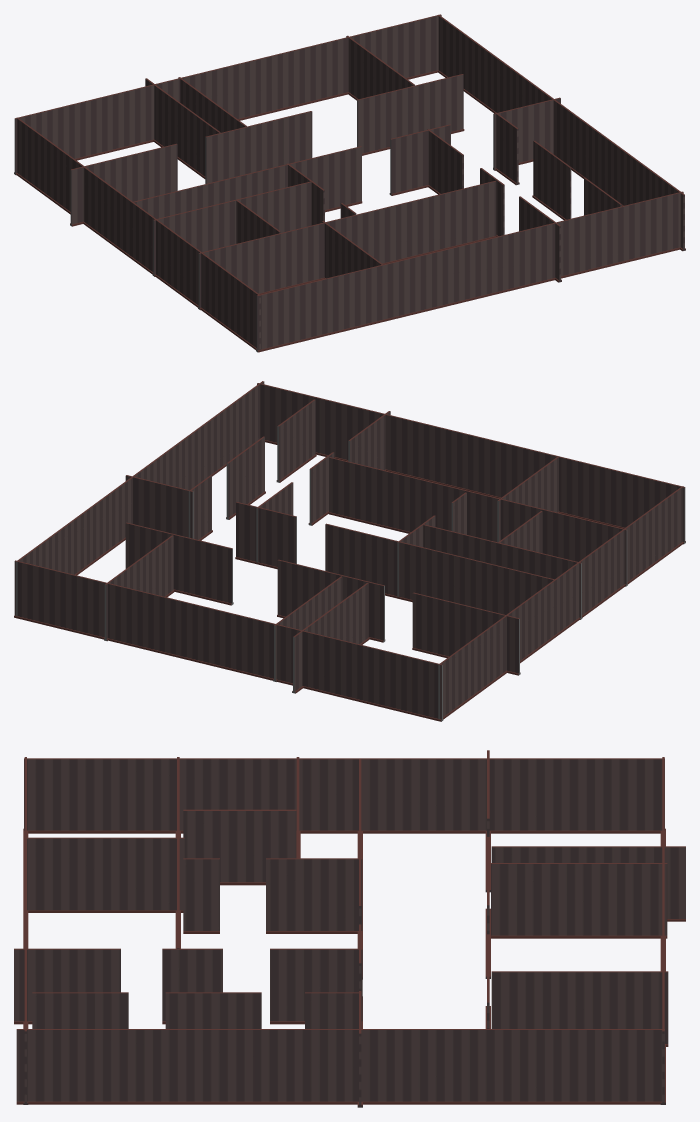
The model's file is wall2.glb.
3 renders of one model, top to bottom at view 1: azimuth 30°, elevation 25°; view 2: azimuth 150°, elevation 25°; view 3: azimuth 270°, elevation 25°, orthographic. The views are drawn at different scales.
Parts seen in each view (by area): view 1: Cube.001, Cube.002, Cube.014, Cube.004, Cube.003, Cube.006, Cube.019, Cube.007, Cube.016, Cube.018, Cube.012, Cube.021 (+12 smaller); view 2: Cube.002, Cube.001, Cube.004, Cube.014, Cube.003, Cube.006, Cube.019, Cube.018, Cube.016, Cube.007, Cube.021, Cube.020 (+13 smaller); view 3: Cube.003, Cube.004, Cube.011, Cube.017, Cube.010, Cube.013, Cube.015, Cube.022, Cube.023, Cube.012, Cube.025, Cube.026 (+8 smaller).
Part boxes in pixels (x1,y1,x2,y2): Cube.001: [256, 191, 683, 352]; Cube.002: [14, 14, 441, 175]; Cube.014: [198, 181, 496, 310]; Cube.004: [17, 118, 260, 349]; Cube.003: [438, 14, 685, 251]; Cube.006: [133, 146, 362, 218]; Cube.019: [357, 74, 464, 155]; Cube.007: [205, 111, 312, 183]; Cube.016: [152, 181, 311, 276]; Cube.018: [70, 143, 177, 226]; Cube.012: [145, 78, 220, 178]; Cube.021: [389, 124, 450, 195]; Cube.002: [14, 560, 443, 721]; Cube.001: [257, 383, 685, 544]; Cube.004: [438, 486, 683, 719]; Cube.014: [328, 457, 627, 586]; Cube.003: [16, 381, 264, 616]; Cube.006: [325, 523, 555, 614]; Cube.019: [125, 522, 233, 605]; Cube.018: [412, 592, 520, 675]; Cube.016: [423, 524, 582, 619]; Cube.007: [277, 559, 385, 642]; Cube.021: [235, 502, 296, 569]; Cube.020: [125, 475, 193, 538]; Cube.003: [16, 1029, 664, 1104]; Cube.004: [24, 758, 664, 833]; Cube.011: [491, 863, 667, 938]; Cube.017: [26, 837, 184, 912]; Cube.010: [491, 971, 668, 1046]; Cube.013: [266, 858, 362, 933]; Cube.015: [183, 809, 296, 885]; Cube.022: [270, 948, 362, 1024]; Cube.023: [14, 948, 120, 1024]; Cube.012: [491, 846, 685, 921]; Cube.025: [165, 992, 261, 1028]; Cube.026: [32, 992, 128, 1028].
Bounding box in the file's own units: 5.06 × 0.6142 × 5.07.
26 materials, 26 textured.
